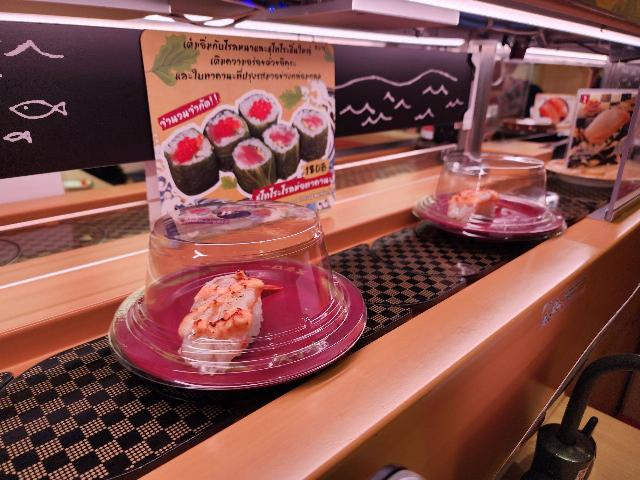janred: (121, 227, 471, 458), (425, 159, 578, 253)
